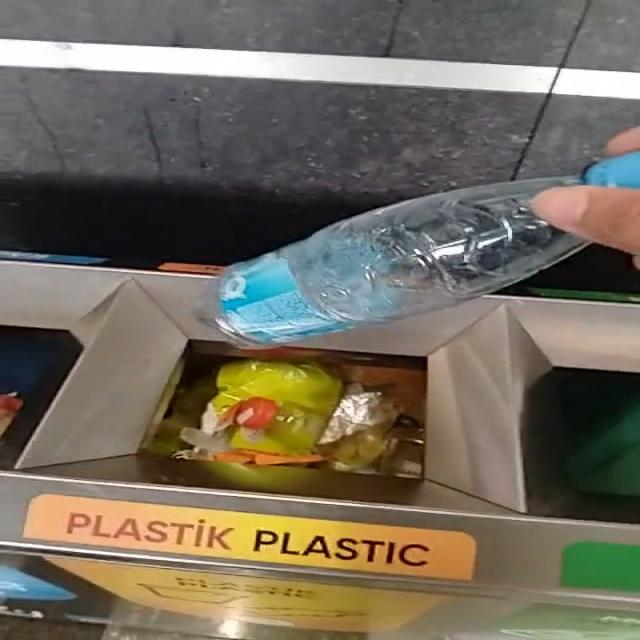plastic: (201, 152, 640, 346), (204, 179, 587, 345)
